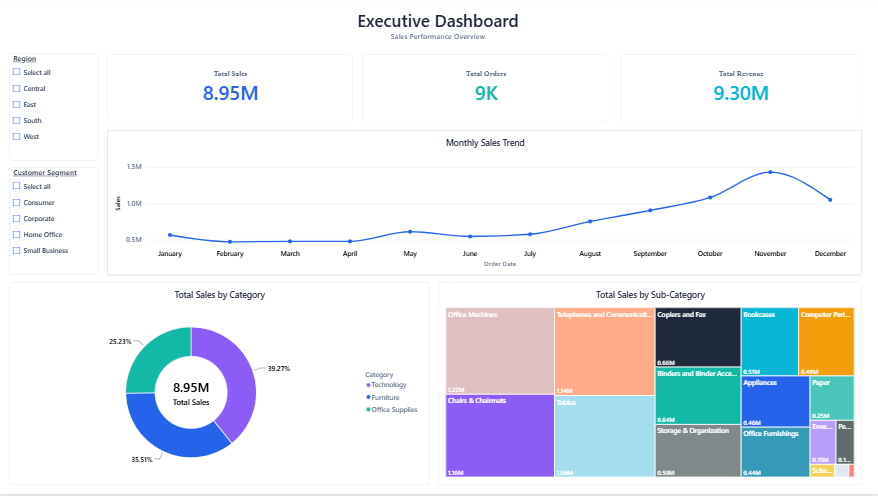

The page's visual inventory and layout, read from the dashboard file:
{"tool":"powerbi","page":{"name":"Executive Dashboard","canvas":[1920,1080],"ordinal":0},"visuals":[{"type":"cardVisual","fields":{"Data":["Orders1.Total Sales"]},"box":[237.5,120,537.5,147.5],"z":0},{"type":"cardVisual","fields":{"Data":["Orders1.Total Revenue"]},"box":[1357.5,120,527.5,147.5],"z":1000},{"type":"cardVisual","fields":{"Data":["Orders1.Total Orders"]},"box":[795,120,540,147.5],"z":2000},{"type":"lineChart","title":"Monthly Sales Trend","fields":{"Category":["Orders1.Order Date.Variation.Date Hierarchy.Month"],"Y":["Sum(Orders1.Sales)"]},"box":[237.5,285,1647.5,317.5],"z":3000},{"type":"donutChart","title":"Total Sales by Category","fields":{"Category":["Orders1.Category"],"Y":["Orders1.Total Sales"]},"box":[25,617.5,917.5,442.5],"z":4000},{"type":"treemap","title":"Total Sales by Sub-Category","fields":{"Details":["Orders1.Sub-Category"],"Values":["Orders1.Total Sales"]},"box":[960,617.5,925,442.5],"z":5000},{"type":"slicer","fields":{"Values":["Orders1.Customer Segment"]},"box":[25,367.5,195,235],"z":6000},{"type":"slicer","fields":{"Values":["Orders1.Region"]},"box":[25,117.5,195,235],"z":7000},{"type":"textbox","box":[0,22.5,1920,92.5],"z":8000}]}

Visuals, with their boxes in screenshot pixels (x1, y1, x2, y2), scaled from the page's 1920x1080 canvas onto the 878x496 screenshot:
cardVisual - Orders1.Total Sales: pyautogui.locateOnScreen(109, 55, 354, 123)
cardVisual - Orders1.Total Revenue: pyautogui.locateOnScreen(621, 55, 862, 123)
cardVisual - Orders1.Total Orders: pyautogui.locateOnScreen(364, 55, 610, 123)
"Monthly Sales Trend" lineChart: pyautogui.locateOnScreen(109, 131, 862, 277)
"Total Sales by Category" donutChart: pyautogui.locateOnScreen(11, 284, 431, 487)
"Total Sales by Sub-Category" treemap: pyautogui.locateOnScreen(439, 284, 862, 487)
slicer - Orders1.Customer Segment: pyautogui.locateOnScreen(11, 169, 101, 277)
slicer - Orders1.Region: pyautogui.locateOnScreen(11, 54, 101, 162)
textbox: pyautogui.locateOnScreen(0, 10, 877, 53)
